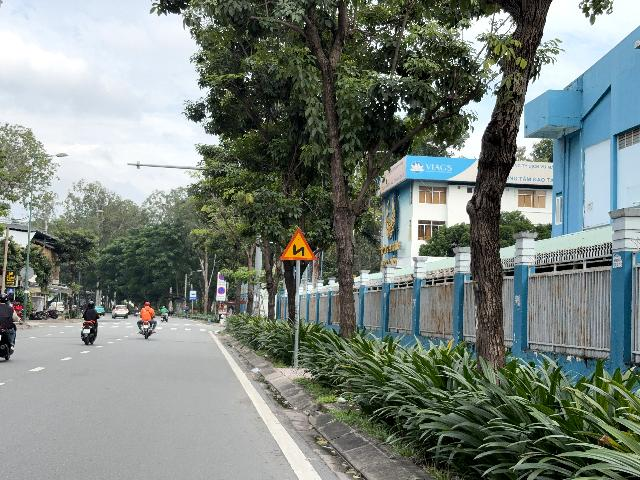nhieu-cho-ngoat-nguy-hiem-lien-tiep: (280, 228, 316, 260)
